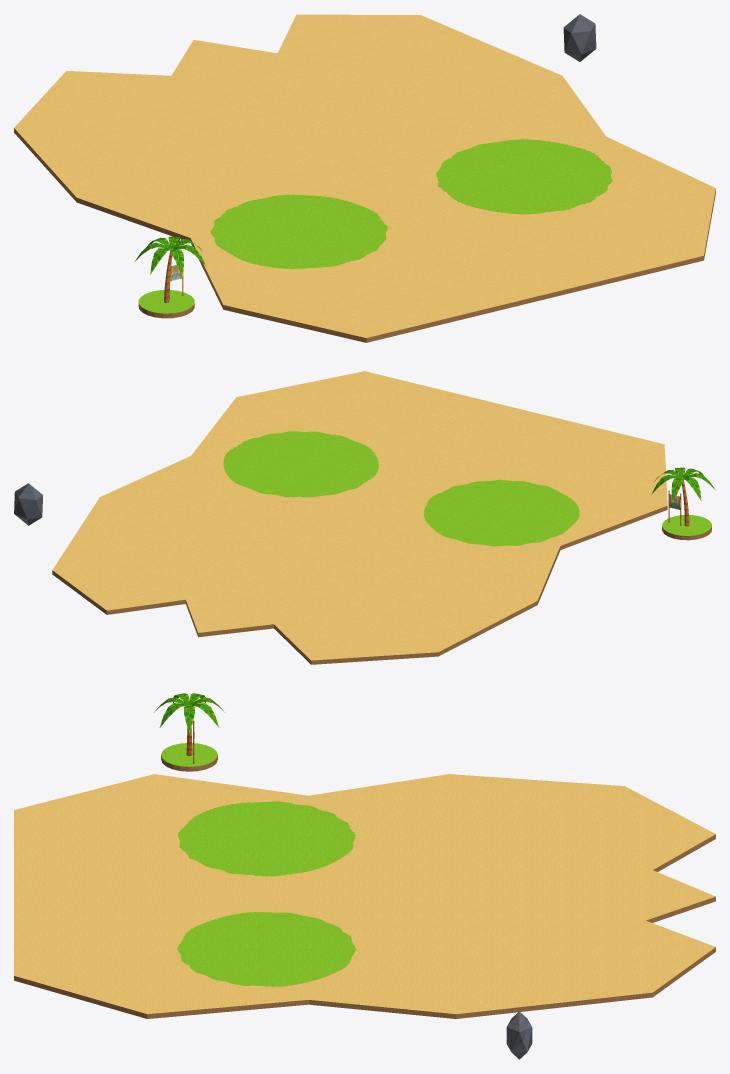
The model's file is surface-17-FeIeNp_8.glb.
3 renders of one model, top to bottom at view 1: azimuth 30°, elevation 25°; view 2: azimuth 150°, elevation 25°; view 3: azimuth 270°, elevation 25°, orthographic. The views are drawn at different scales.
Parts seen in each view (by area): view 1: HI_Surface_17, FLC_Regions_17, HI_SceneryIslet_0.006, HI_Palm.005, HI_BasaltOutcrop.006; view 2: HI_Surface_17, FLC_Regions_17, HI_Palm.005, HI_SceneryIslet_0.006, HI_BasaltOutcrop.006; view 3: HI_Surface_17, FLC_Regions_17, HI_SceneryIslet_0.006, HI_Palm.005, HI_BasaltOutcrop.006.
Boxes of the visible parts, left/top/right/bottom form: HI_Surface_17: left=14, top=14, right=715, bottom=342; FLC_Regions_17: left=210, top=139, right=612, bottom=268; HI_SceneryIslet_0.006: left=138, top=290, right=194, bottom=318; HI_Palm.005: left=134, top=236, right=206, bottom=302; HI_BasaltOutcrop.006: left=563, top=14, right=596, bottom=61; HI_Surface_17: left=52, top=371, right=667, bottom=664; FLC_Regions_17: left=223, top=431, right=579, bottom=546; HI_Palm.005: left=651, top=467, right=715, bottom=526; HI_SceneryIslet_0.006: left=662, top=515, right=711, bottom=540; HI_BasaltOutcrop.006: left=14, top=483, right=42, bottom=525; HI_Surface_17: left=14, top=774, right=715, bottom=1018; FLC_Regions_17: left=177, top=801, right=355, bottom=986; HI_SceneryIslet_0.006: left=161, top=743, right=217, bottom=771; HI_Palm.005: left=154, top=693, right=224, bottom=755; HI_BasaltOutcrop.006: left=506, top=1011, right=532, bottom=1059.
Bounding box in the file's own units: 42.89 × 5.15 × 42.
7 materials, 6 textured.
